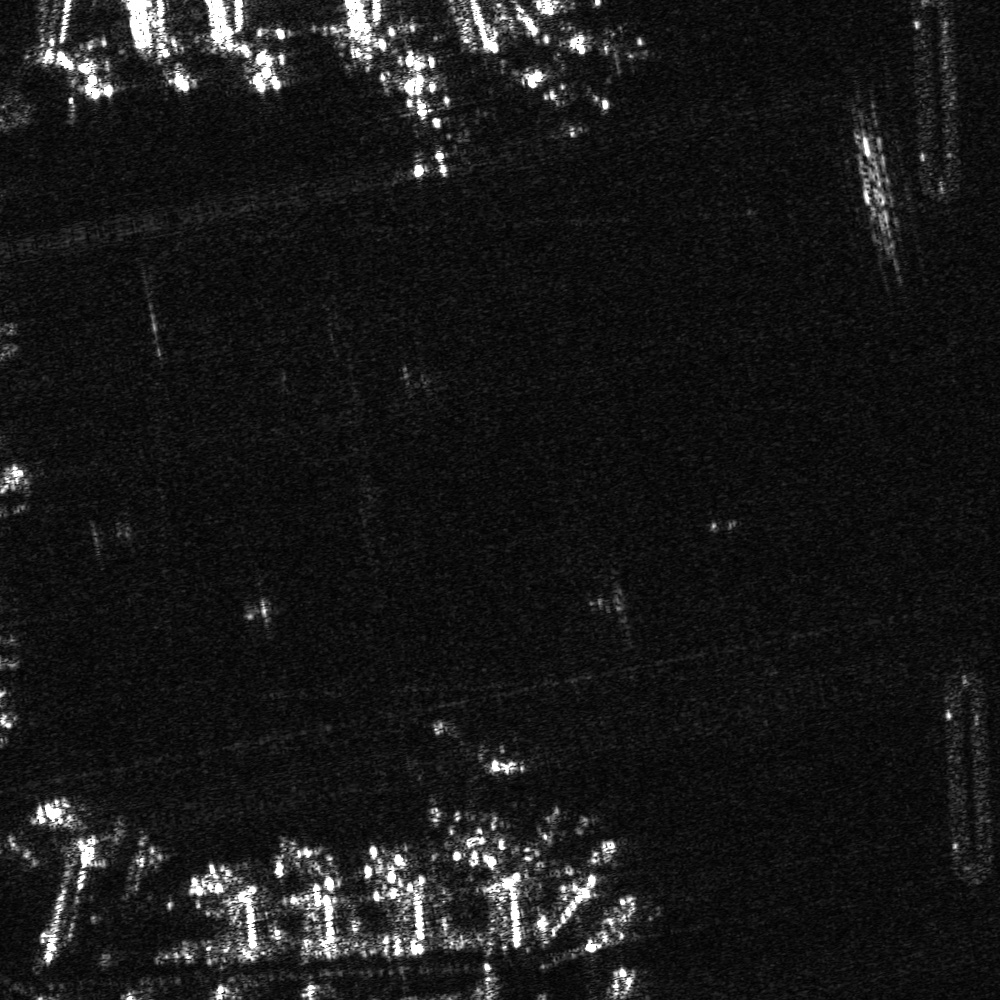A220: (399, 719, 542, 814)
A320/321: (363, 65, 480, 180), (558, 16, 662, 77)
Boeing737: (509, 62, 619, 125)
